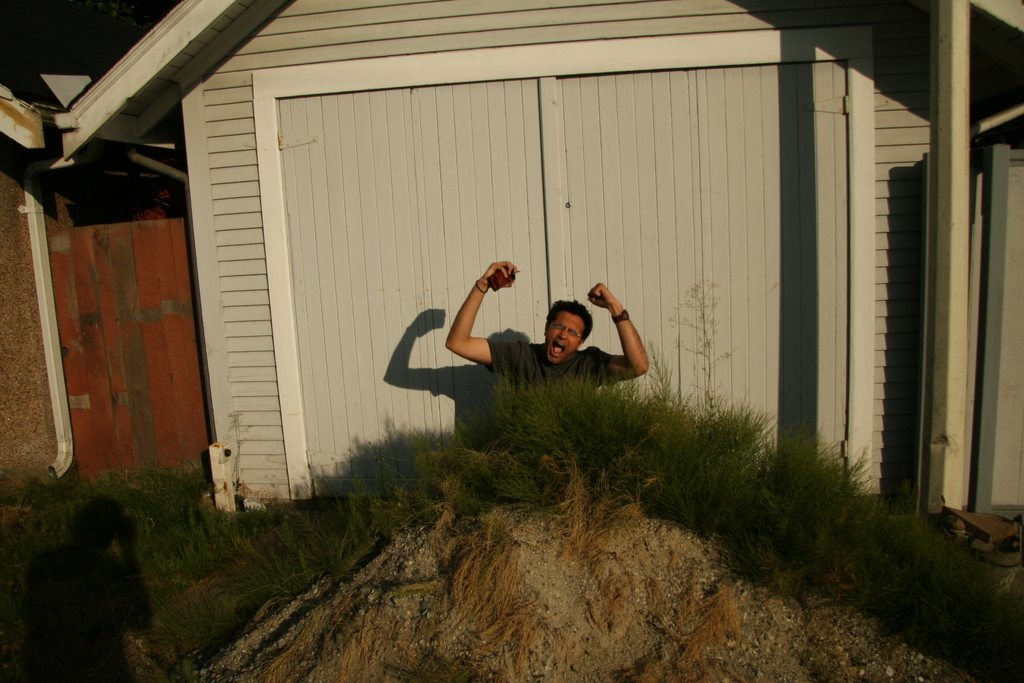Human_hand: (587, 276, 654, 374), (479, 260, 522, 290)
